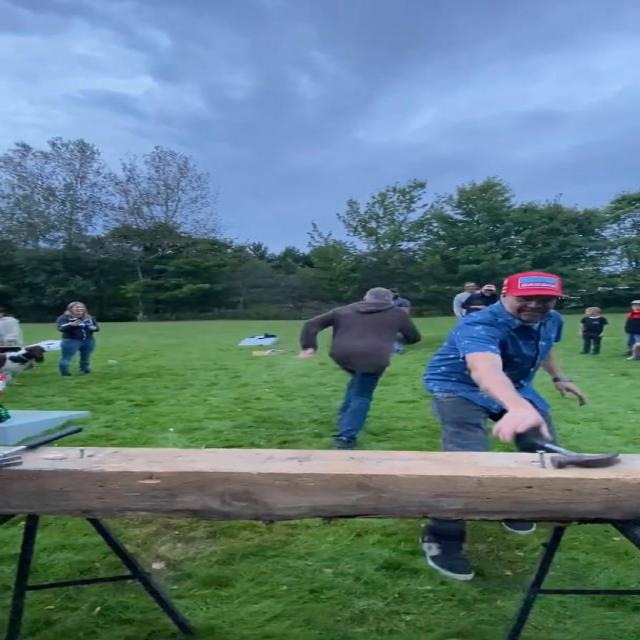hammer: (521, 431, 621, 469), (0, 426, 83, 468)
